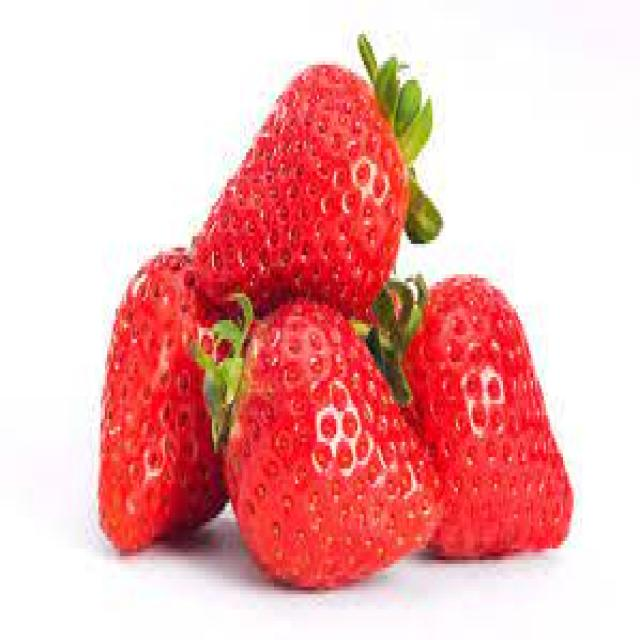strawberry: (202, 309, 443, 586), (188, 58, 437, 320), (386, 280, 590, 566), (90, 242, 234, 561)
